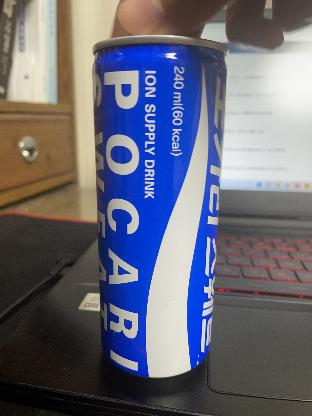Can: (90, 34, 230, 380)
